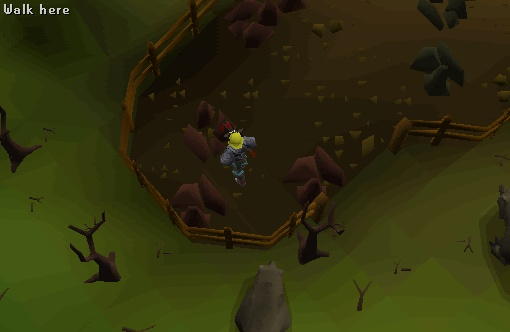coal: (401, 36, 472, 105)
iron: (275, 139, 357, 212), (156, 169, 238, 242), (163, 97, 245, 170), (209, 1, 291, 73)
